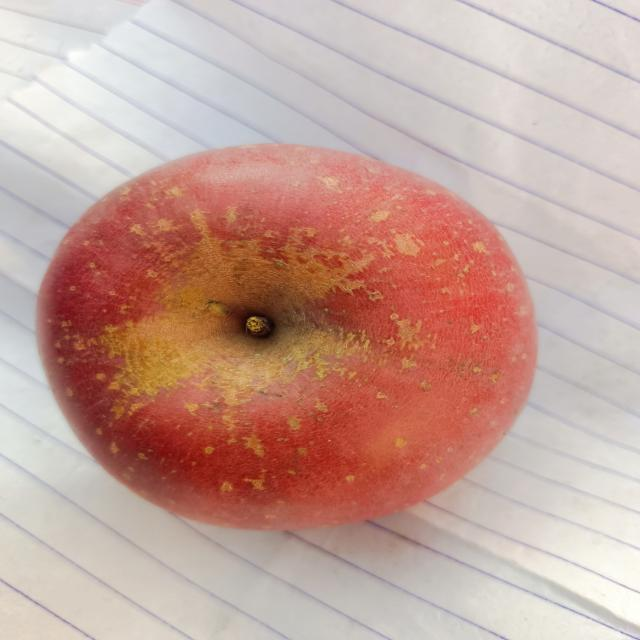Fresh Apple: (37, 135, 543, 530)
